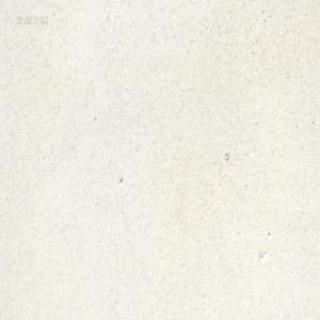Washertrack_idkeyframe: (223, 150, 228, 160)
